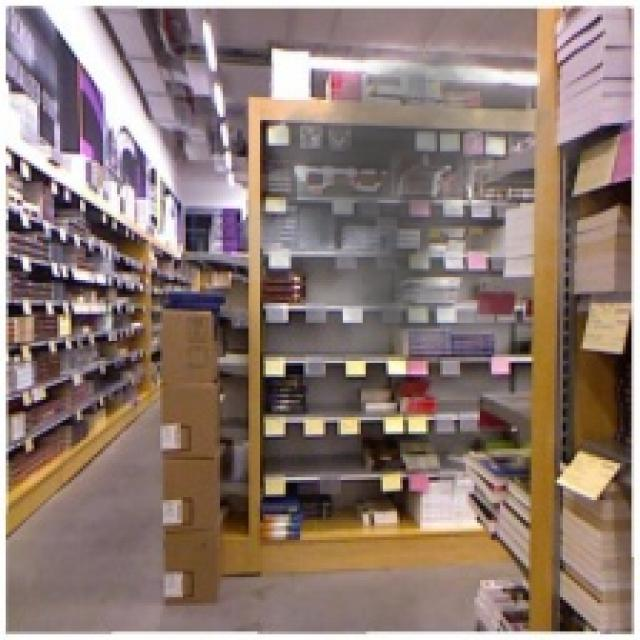smoke: (223, 23, 626, 371)
